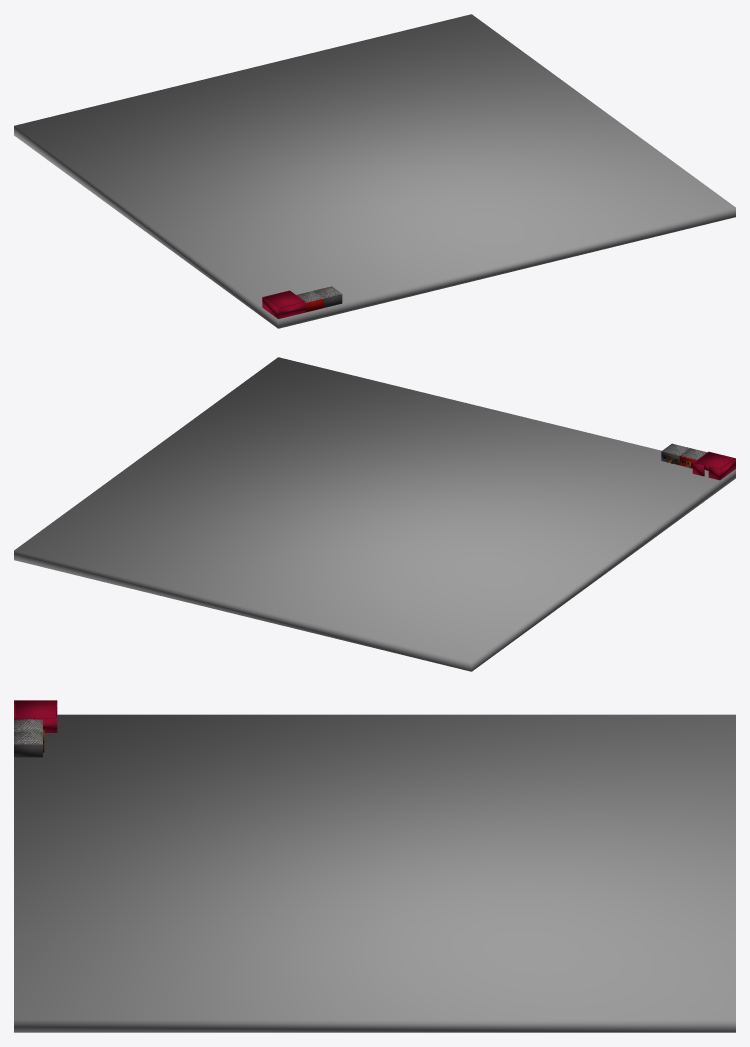
File: CityModel.fbx
3 renders of one model, top to bottom at view 1: azimuth 30°, elevation 25°; view 2: azimuth 150°, elevation 25°; view 3: azimuth 270°, elevation 25°, orthographic. The views are drawn at different scales.
Parts seen in each view (by area): view 1: Floor; view 2: Floor; view 3: Floor, Cube.7.
Part boxes in pixels (x1,y1,x2,y2): Floor: (14,14,735,328); Floor: (14,357,735,671); Floor: (14,714,735,1032); Cube.7: (15,700,55,717).
Bounding box in the file's own units: 1000 × 50.02 × 1000.
Materials: 9 (2 with a texture image).
